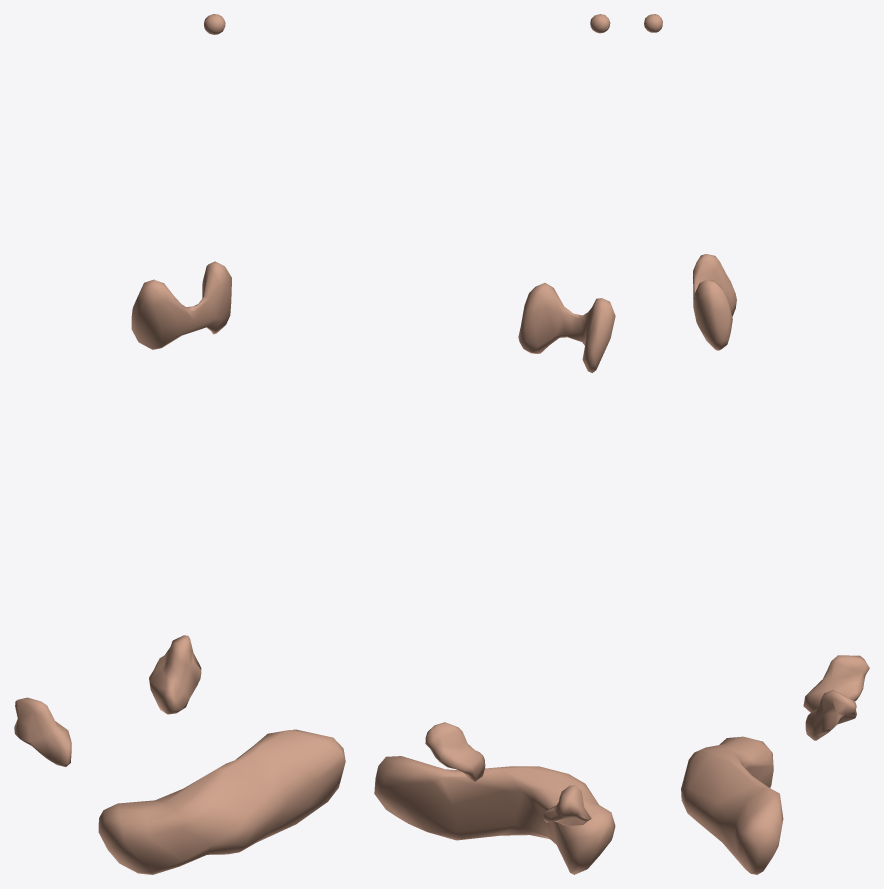
File: pediatric_child_10y_female.endocrine.LOD2.glb
3 views of the same model, side by side, from view 1: azimuth 30°, elevation 25°; view 2: azimuth 150°, elevation 25°; view 3: azimuth 270°, elevation 25° (orthographic). The views are drawn at different scales.
Parts seen in each view (by area): view 1: PEDIATRIC.CHILD_10Y.FEMALE.ENDOCRINE.PANCREAS, PEDIATRIC.CHILD_10Y.FEMALE.ENDOCRINE.THYROID, PEDIATRIC.CHILD_10Y.FEMALE.ENDOCRINE.ADRENAL.L, PEDIATRIC.CHILD_10Y.FEMALE.ENDOCRINE.ADRENAL.R; view 2: PEDIATRIC.CHILD_10Y.FEMALE.ENDOCRINE.PANCREAS, PEDIATRIC.CHILD_10Y.FEMALE.ENDOCRINE.THYROID, PEDIATRIC.CHILD_10Y.FEMALE.ENDOCRINE.ADRENAL.L, PEDIATRIC.CHILD_10Y.FEMALE.ENDOCRINE.ADRENAL.R; view 3: PEDIATRIC.CHILD_10Y.FEMALE.ENDOCRINE.PANCREAS, PEDIATRIC.CHILD_10Y.FEMALE.ENDOCRINE.THYROID, PEDIATRIC.CHILD_10Y.FEMALE.ENDOCRINE.ADRENAL.R, PEDIATRIC.CHILD_10Y.FEMALE.ENDOCRINE.ADRENAL.L.
Part boxes in pixels (bbox=[...]): PEDIATRIC.CHILD_10Y.FEMALE.ENDOCRINE.PANCREAS: bbox=[98, 729, 345, 874]; PEDIATRIC.CHILD_10Y.FEMALE.ENDOCRINE.THYROID: bbox=[131, 261, 231, 349]; PEDIATRIC.CHILD_10Y.FEMALE.ENDOCRINE.ADRENAL.L: bbox=[149, 635, 201, 714]; PEDIATRIC.CHILD_10Y.FEMALE.ENDOCRINE.ADRENAL.R: bbox=[14, 697, 71, 766]; PEDIATRIC.CHILD_10Y.FEMALE.ENDOCRINE.PANCREAS: bbox=[374, 756, 615, 874]; PEDIATRIC.CHILD_10Y.FEMALE.ENDOCRINE.THYROID: bbox=[518, 283, 615, 372]; PEDIATRIC.CHILD_10Y.FEMALE.ENDOCRINE.ADRENAL.L: bbox=[425, 722, 485, 781]; PEDIATRIC.CHILD_10Y.FEMALE.ENDOCRINE.ADRENAL.R: bbox=[543, 784, 591, 826]; PEDIATRIC.CHILD_10Y.FEMALE.ENDOCRINE.PANCREAS: bbox=[681, 736, 783, 874]; PEDIATRIC.CHILD_10Y.FEMALE.ENDOCRINE.THYROID: bbox=[693, 254, 736, 350]; PEDIATRIC.CHILD_10Y.FEMALE.ENDOCRINE.ADRENAL.R: bbox=[803, 655, 869, 712]; PEDIATRIC.CHILD_10Y.FEMALE.ENDOCRINE.ADRENAL.L: bbox=[805, 689, 856, 740].
Size of the model in its own units: 0.1336 by 0.4039 by 0.1032.
